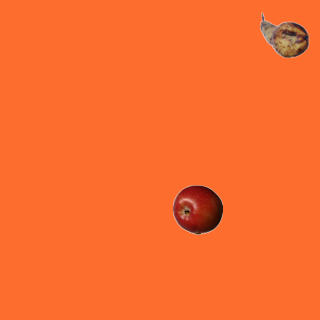Apple Braeburn: (172, 184, 222, 234)
Pear Abate: (259, 10, 309, 60)
